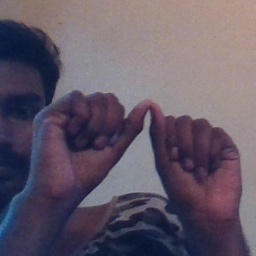A: (70, 86, 221, 188)
